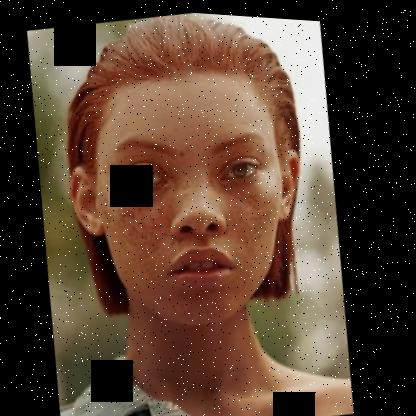Female: (44, 42, 335, 347)
